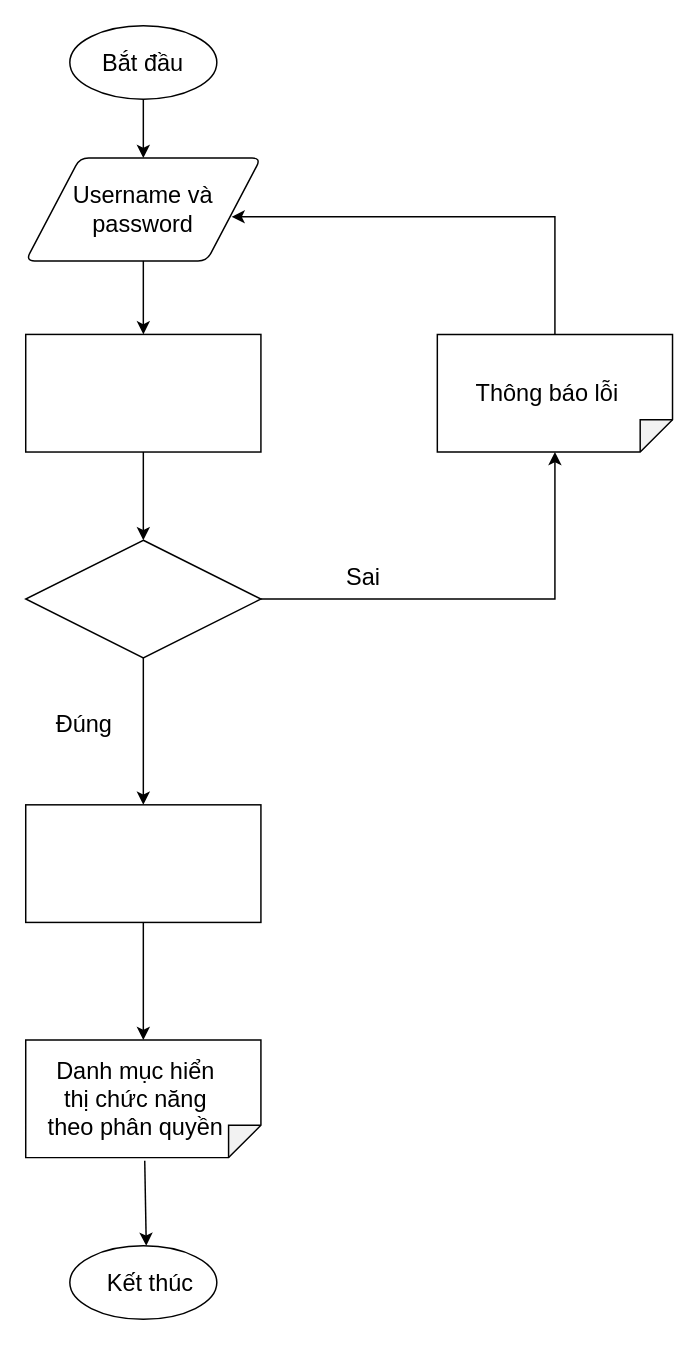
Image size: 698x1345. Some labels were removed from this diagram. The shapes that lost their labels are listed below. From the top down, each one's centre as x and y in pixels, then its label:
the point at 142,392: Kiểm tra tính hợp lệ của tài khoản
the point at 142,598: Hợp lệ
the point at 142,862: Kiểm tra phân quyền
